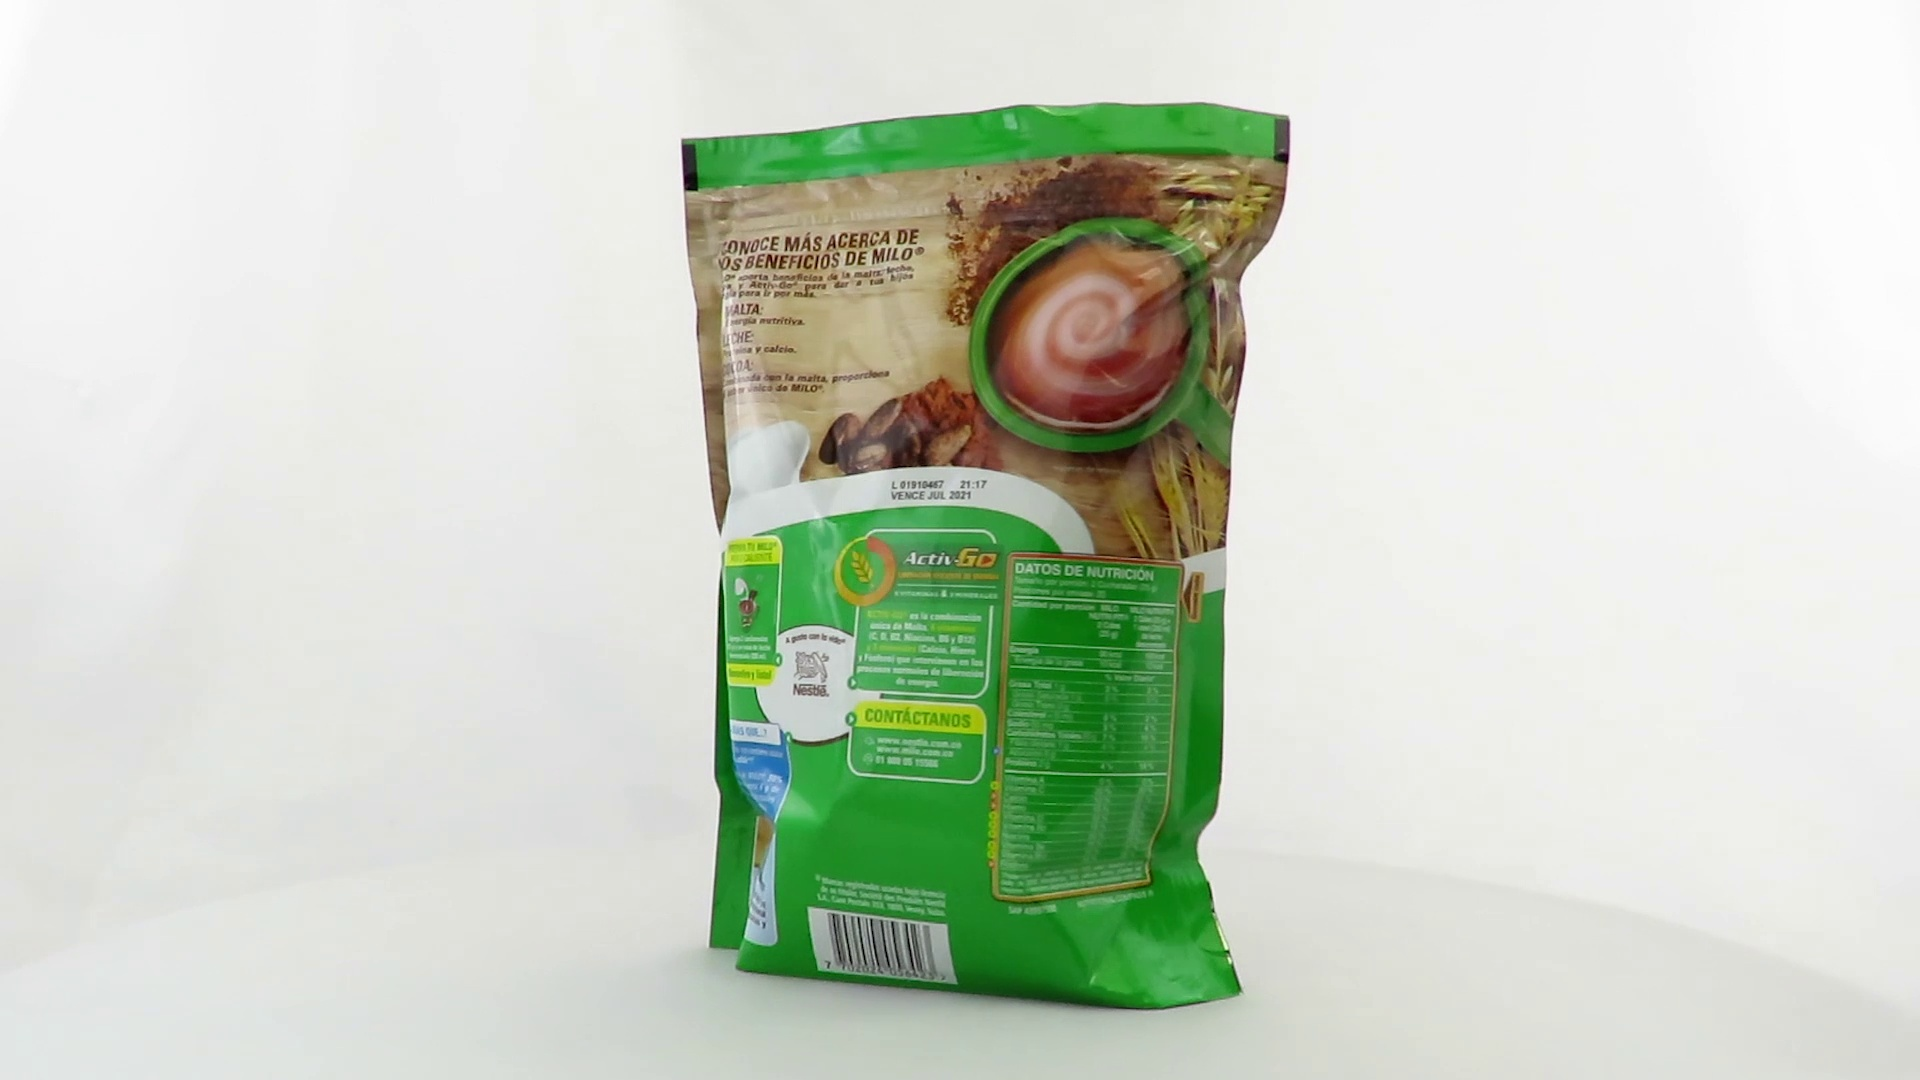COL0170205DYP50000: (676, 98, 1296, 1017)
